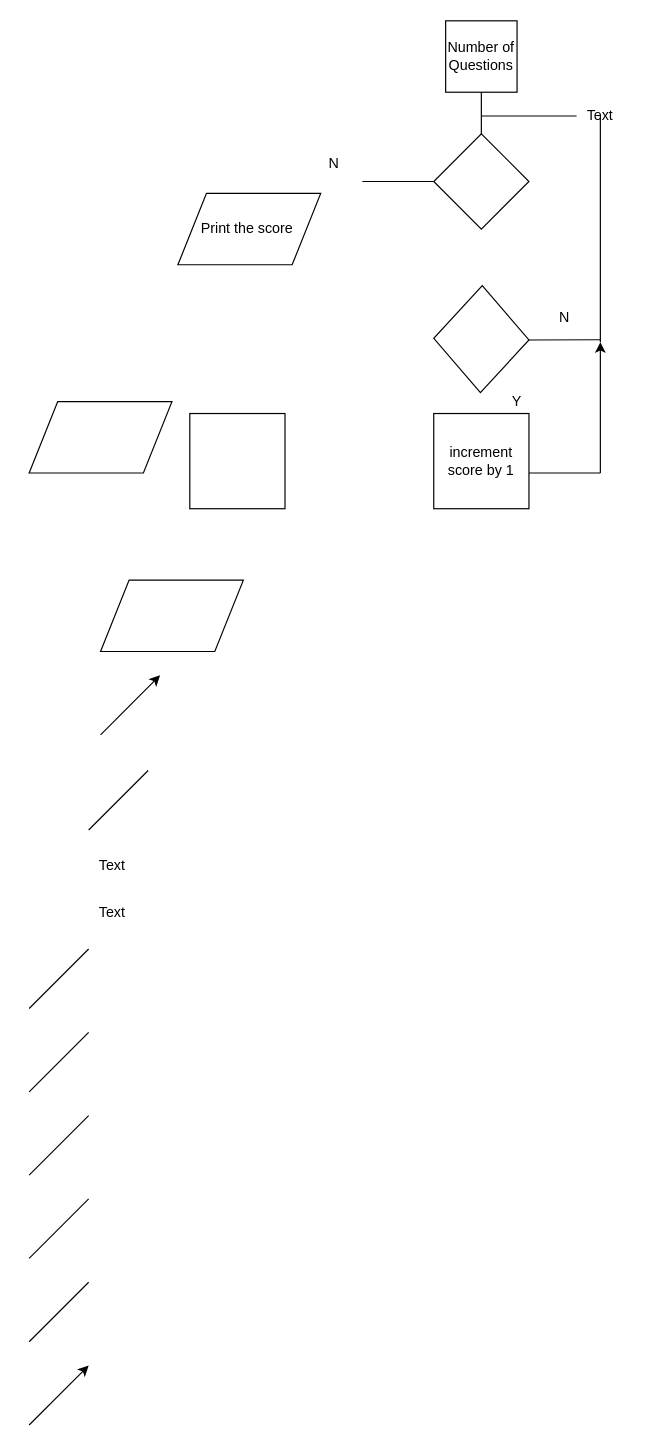
The diagram is 645 pixels wide and 1455 high, and some of its shapes have lost their labels. The shapes that lost their labels are listed below. From the top down, each one's centre as x and y in pixels, then its label:
At [481,181]: "is I less than m".
At [481,339]: "is answer correct?".
